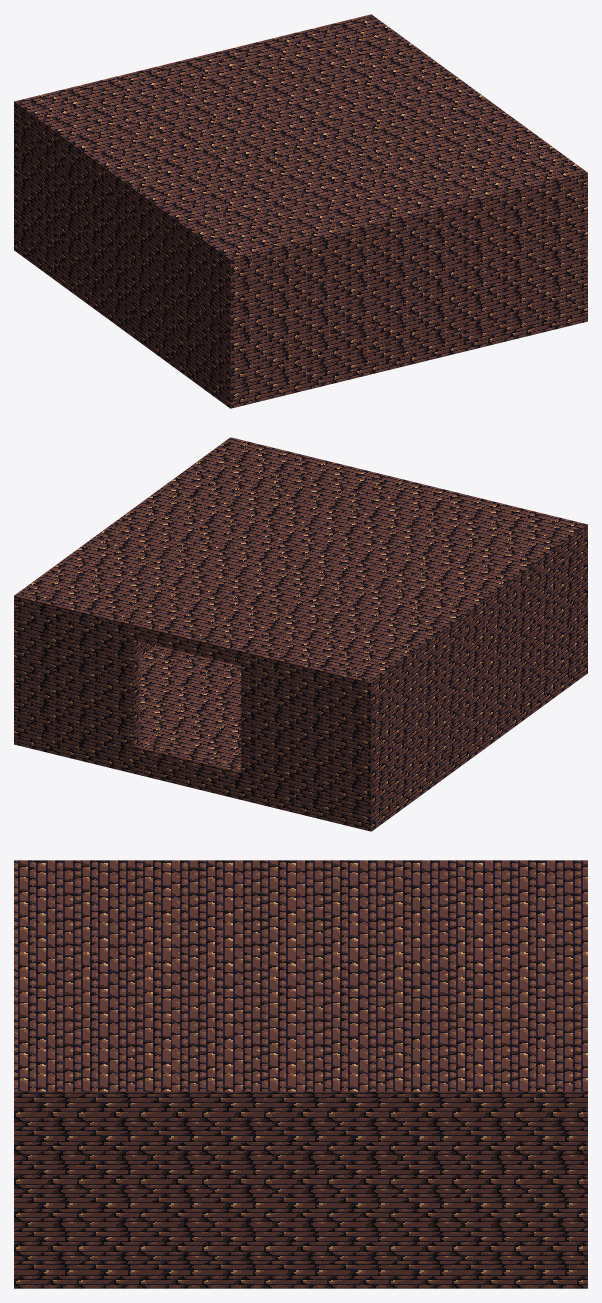
File: room.obj
The picture shows the model from 3 angles, top to bottom: view 1: azimuth 30°, elevation 25°; view 2: azimuth 150°, elevation 25°; view 3: azimuth 270°, elevation 25°; orthographic projection. The views are drawn at different scales.
Parts seen in each view (by area): view 1: Cube_Cube.003; view 2: Cube_Cube.003; view 3: Cube_Cube.003.
Boxes of the visible parts, x1,y1,x2,y2 form: Cube_Cube.003: [14, 14, 587, 408]; Cube_Cube.003: [14, 437, 587, 831]; Cube_Cube.003: [14, 860, 587, 1288].
Bounding box in the file's own units: 23.17 × 9.21 × 24.31.
